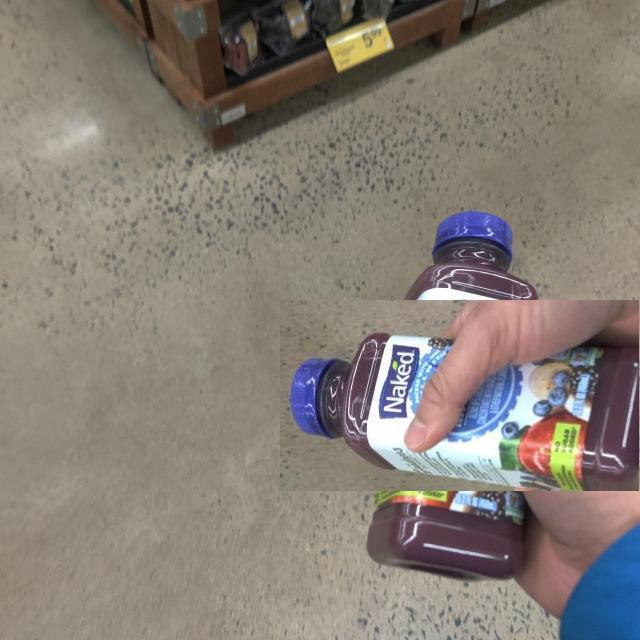Juice: (280, 300, 640, 491)
